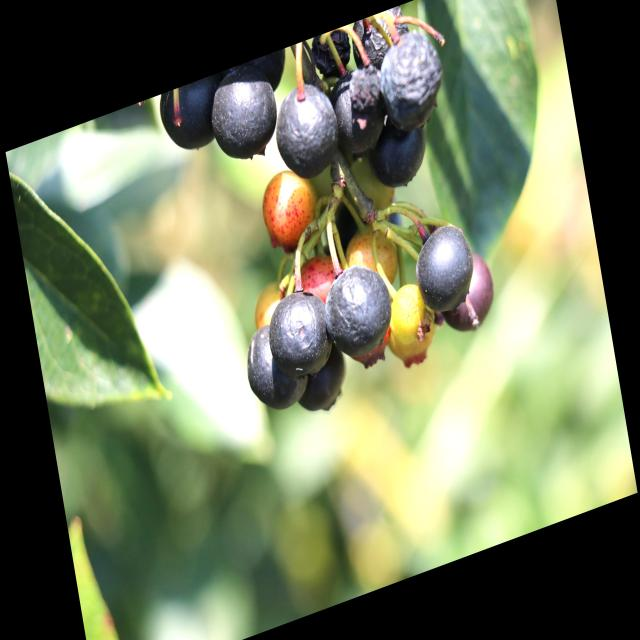blueberry: (312, 249, 400, 378), (367, 17, 454, 144), (201, 54, 286, 178), (264, 68, 347, 194), (259, 276, 341, 394), (404, 208, 482, 332), (318, 54, 398, 170), (235, 309, 312, 425), (360, 103, 436, 202), (155, 72, 231, 166), (290, 337, 358, 425), (346, 2, 421, 79), (307, 24, 358, 84)
blueberry-halfripe: (256, 158, 320, 256)
blueberry-unripe: (383, 274, 438, 370), (342, 213, 403, 298)
